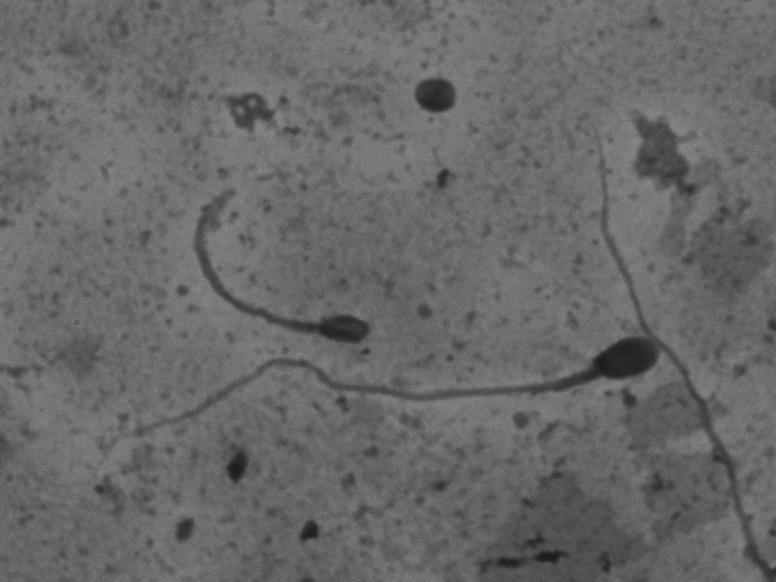Abnormal: (79, 330, 665, 489)
